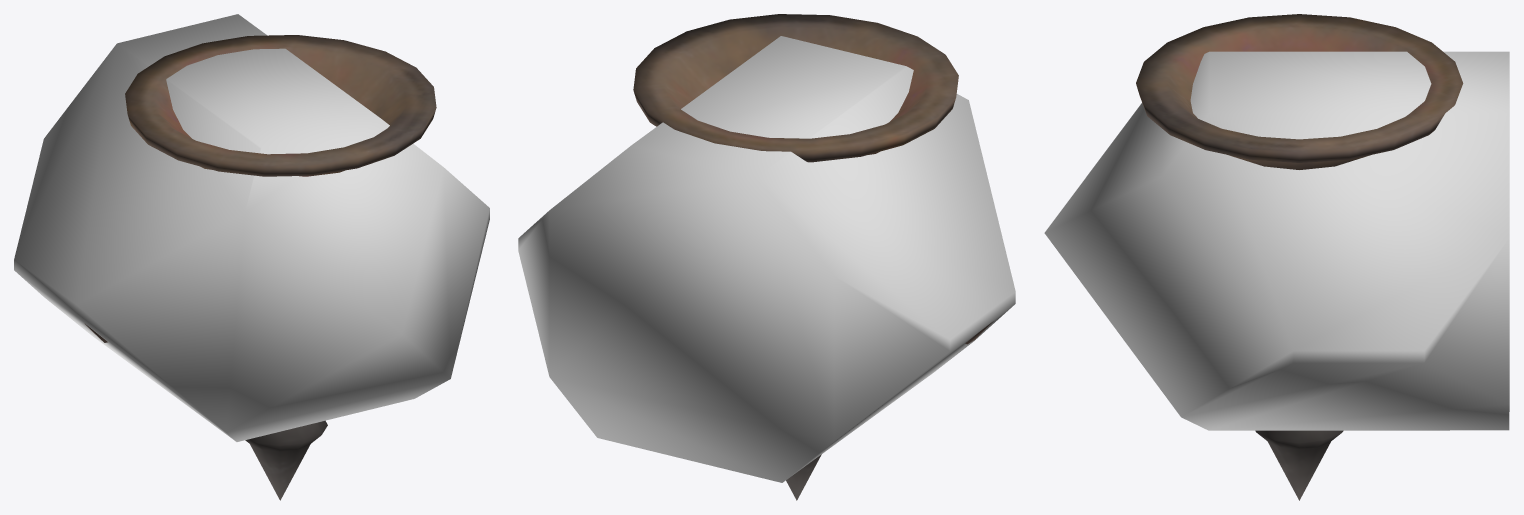
File: SM_Candles_Holder.fbx
The picture shows the model from 3 angles, left to right: view 1: azimuth 30°, elevation 25°; view 2: azimuth 150°, elevation 25°; view 3: azimuth 270°, elevation 25°; orthographic projection. The views are drawn at different scales.
Parts seen in each view (by area): view 1: SM_Candles_Holder_ConvexHulls, SM_Candles_Holder; view 2: SM_Candles_Holder_ConvexHulls, SM_Candles_Holder; view 3: SM_Candles_Holder_ConvexHulls, SM_Candles_Holder.
Part boxes in pixels (x1,y1,x2,y2): SM_Candles_Holder_ConvexHulls: (14,14,489,441); SM_Candles_Holder: (84,35,436,500); SM_Candles_Holder_ConvexHulls: (518,36,1015,482); SM_Candles_Holder: (633,14,993,500); SM_Candles_Holder_ConvexHulls: (1044,51,1509,430); SM_Candles_Holder: (1136,14,1463,500).
Bounding box in the file's own units: 0.2575 × 0.2381 × 0.2401.
